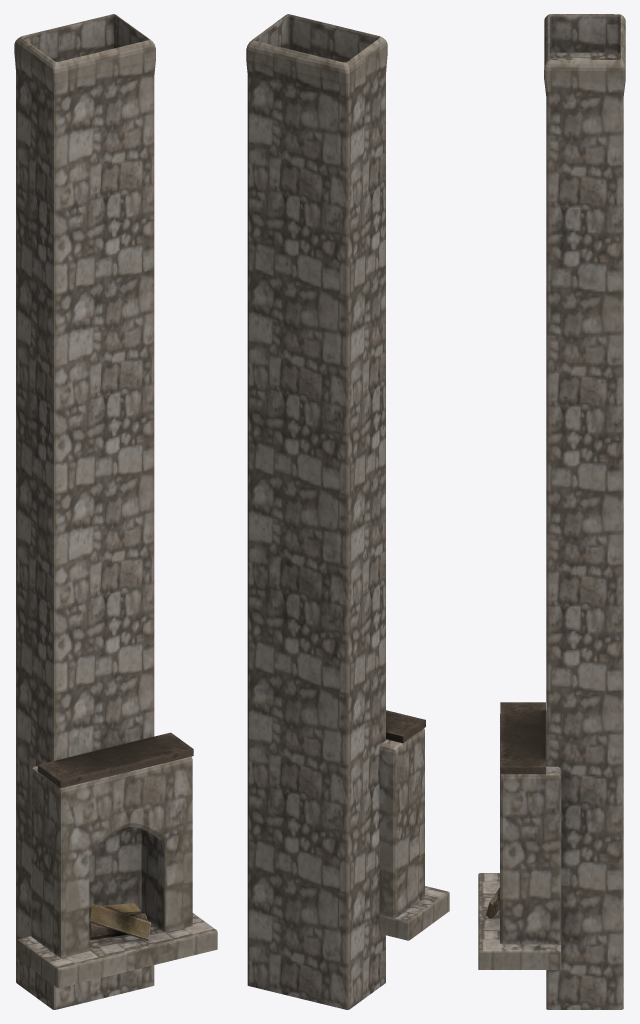
Rendered from BW_Inn01_Chimney.fbx.
3 renders of one model, left to right at view 1: azimuth 30°, elevation 25°; view 2: azimuth 150°, elevation 25°; view 3: azimuth 270°, elevation 25°, orthographic.
Visible parts, largest first — view 1: BW_Inn01_Chimney; view 2: BW_Inn01_Chimney; view 3: BW_Inn01_Chimney.
Part boxes in pixels (x1,y1,x2,y2): BW_Inn01_Chimney: (14,14,217,1009); BW_Inn01_Chimney: (246,14,449,1009); BW_Inn01_Chimney: (478,14,625,1009).
Bounding box in the file's own units: 1.48 × 8.38 × 1.18.
